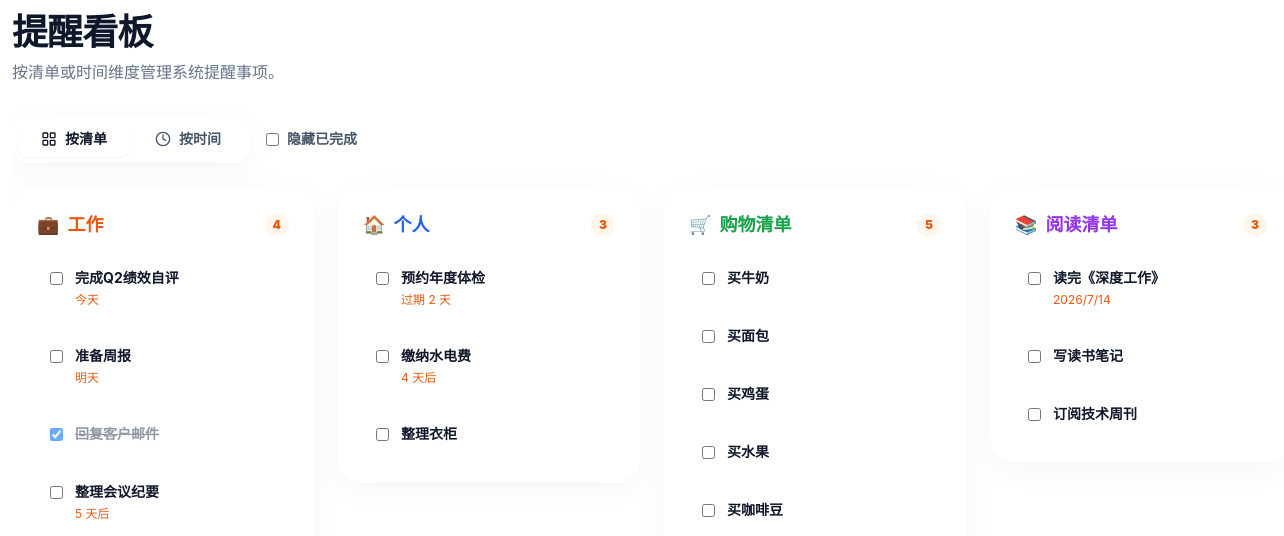
Test: RemindersView › View Switching and Hide Completed › should show completed reminders again when unchecking hide completed
# 勾选"隐藏已完成"
Click the checkbox labelled "隐藏已完成" at (272, 139), box top-left (266, 132), bottom-right (279, 146)
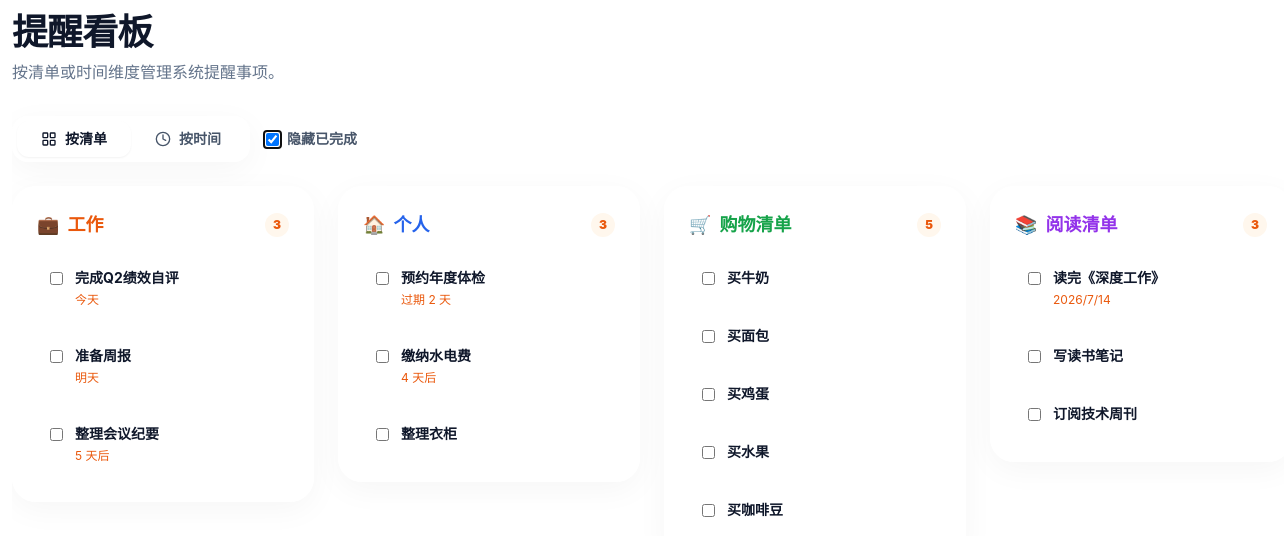
expect the button "回复客户邮件" is gone: met
# 取消勾选"隐藏已完成"
Click the checkbox labelled "隐藏已完成" at (272, 139), box top-left (266, 132), bottom-right (279, 146)
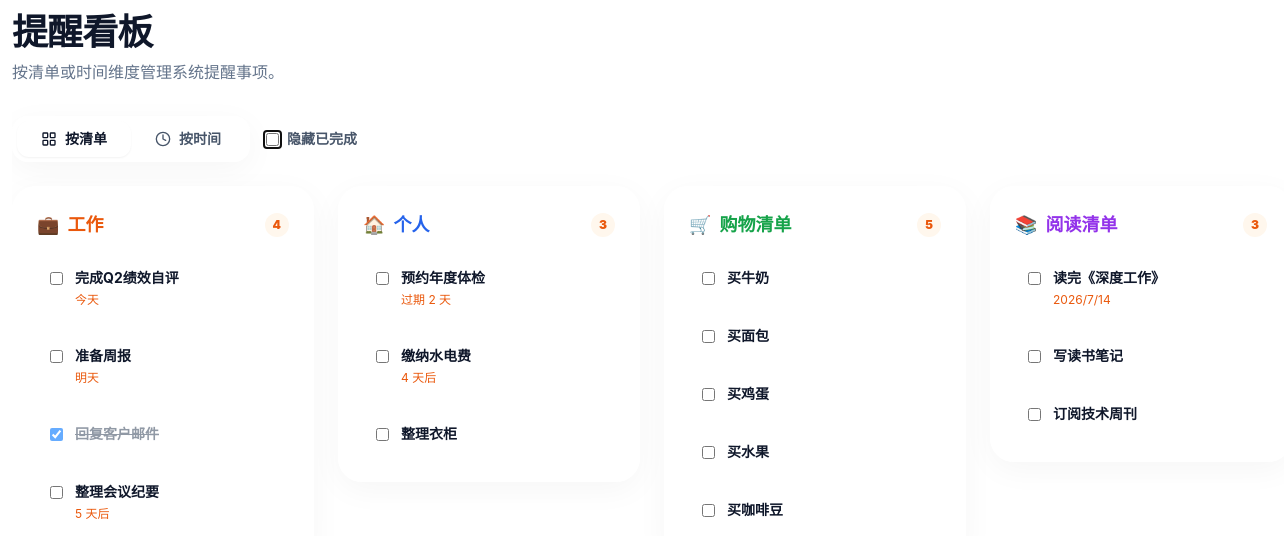
expect the text "完成Q2绩效自评" is shown: met, box top-left (75, 269), bottom-right (179, 286)
expect the text "回复客户邮件" is shown: met, box top-left (75, 425), bottom-right (159, 442)
